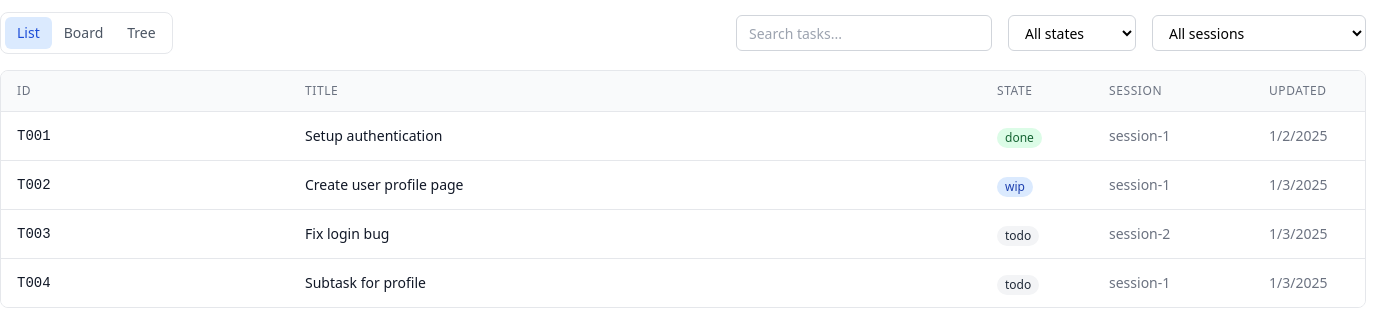
Test: TasksView › Filters › filters tasks by search text
In the field with placeholder "Search tasks...": (864, 33) x1=736 y1=15 x2=992 y2=51, type "profile"
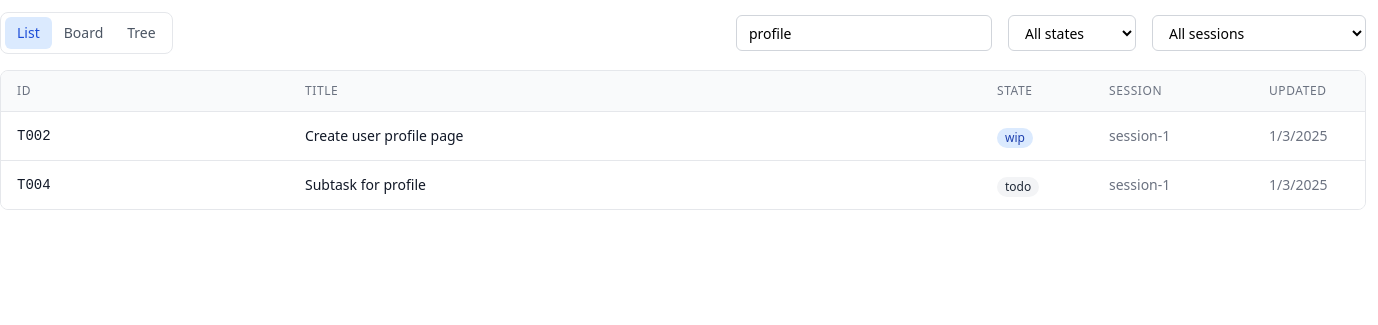
expect the text "Create user profile page" is shown: met, box x1=289 y1=112 x2=981 y2=160
expect the text "Setup authentication" is gone: met
